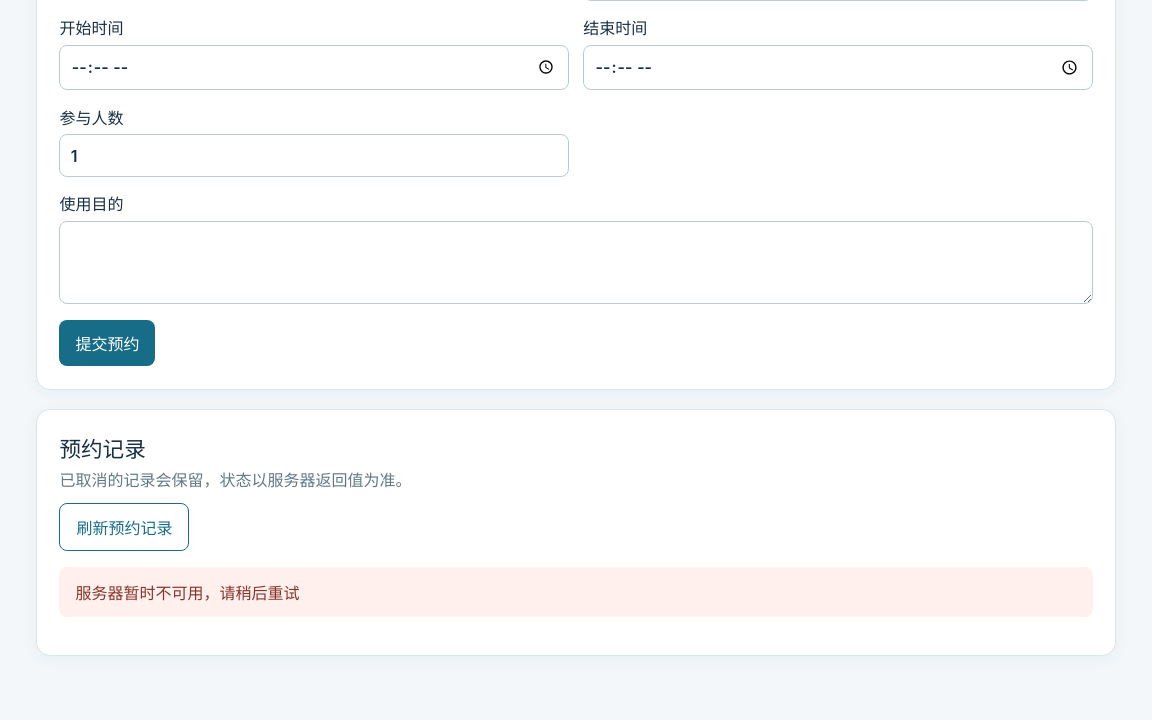
场地预约页面 › 预约记录加载失败后可手动重试并显示服务器记录
(page scrolled)
Expected: the message shows "服务器暂时不可用", [75, 583, 299, 603]
Click the button "刷新预约记录" at point(124, 527), box [59, 503, 189, 552]
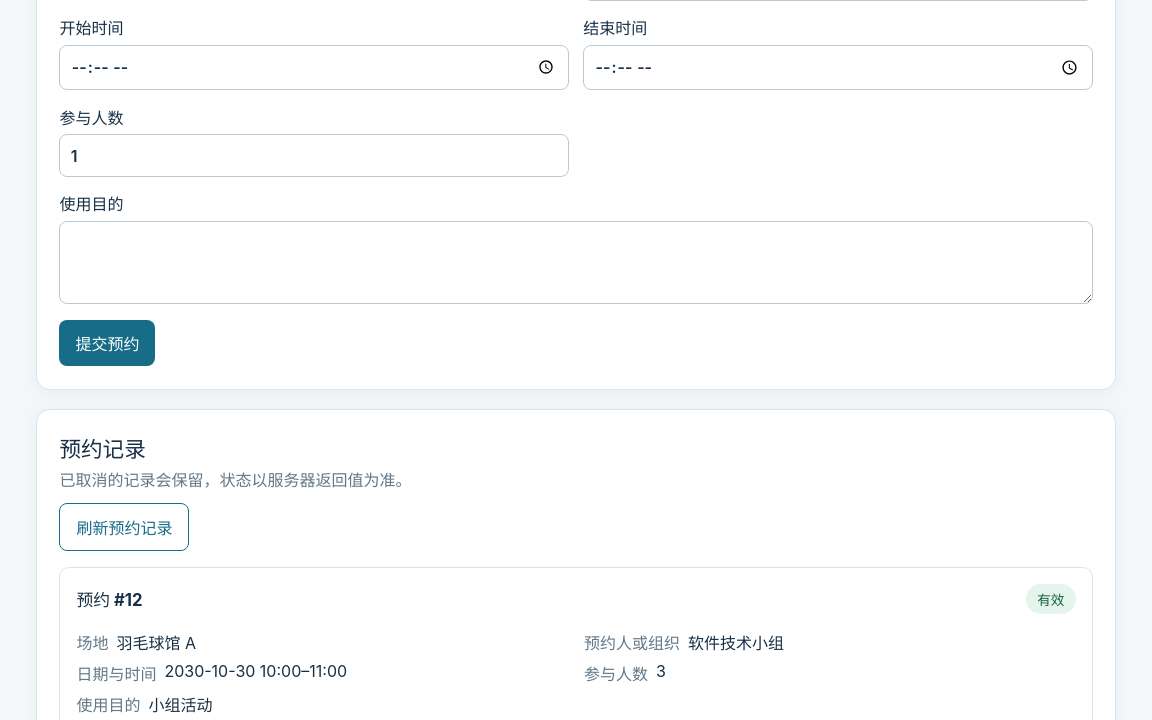
Now the text "软件技术小组" is shown, box [688, 630, 784, 654]
Now the message "服务器暂时不可用，请稍后重试" is gone
